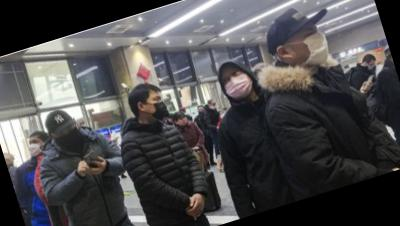with_mask: (287, 21, 334, 72), (218, 65, 256, 103), (51, 123, 84, 152), (144, 91, 171, 123), (25, 135, 45, 156), (366, 60, 378, 71), (209, 101, 217, 110), (219, 110, 227, 119)
without_mask: (177, 114, 189, 126)
